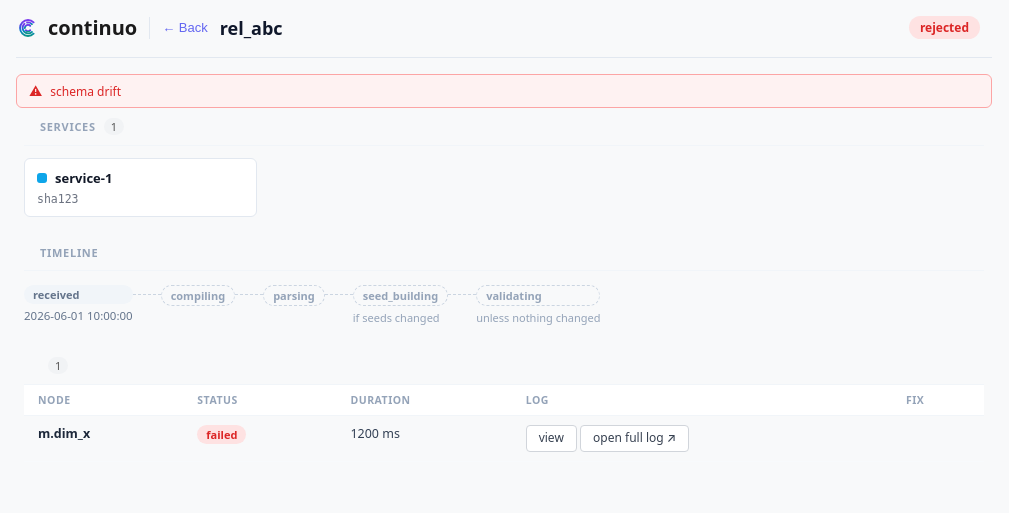
Test: ReleaseDetailPage › toggles the log block and always shows a link-out
Expected: the text "m.dim_x" is shown, [38,425,90,442]
Expected: the link "open full log ↗" is shown, [580,425,689,452]
Click the button "view": point(551, 438) [526,425,577,452]
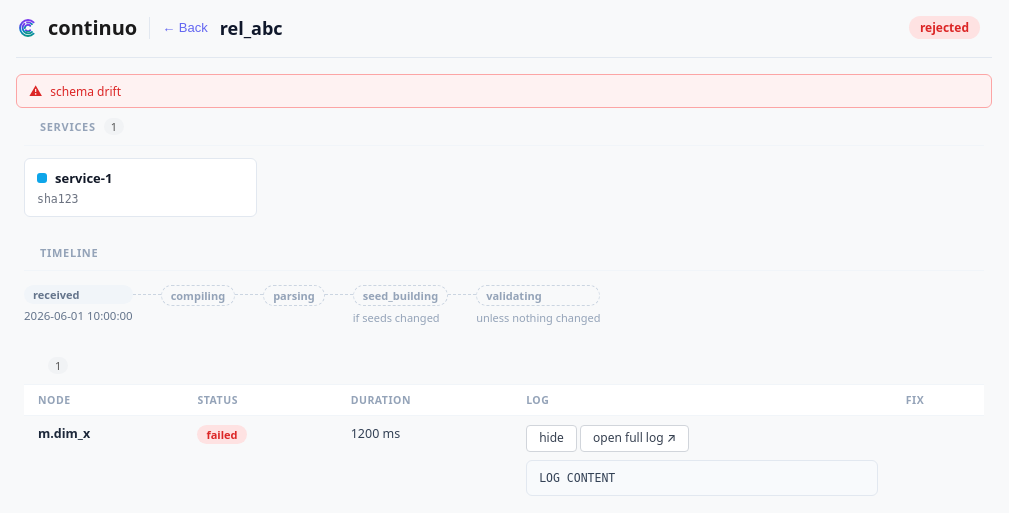
Result: the text with class "log-block" reads "LOG CONTENT" at [539,471,615,485]
